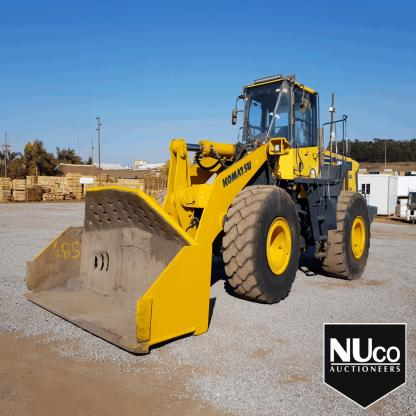bull_dozer/loader/grader: (21, 66, 381, 356)
